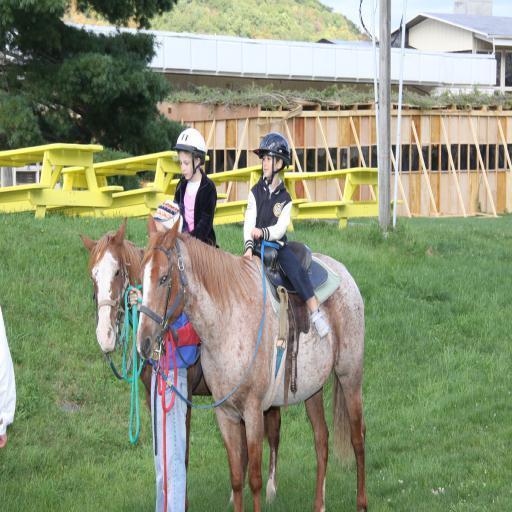horse: (136, 214, 370, 512), (78, 214, 284, 508)
